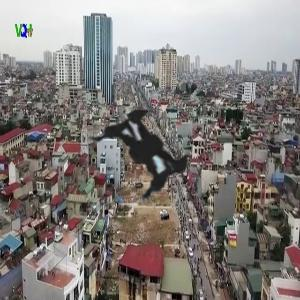drone: (4, 1, 284, 281)
